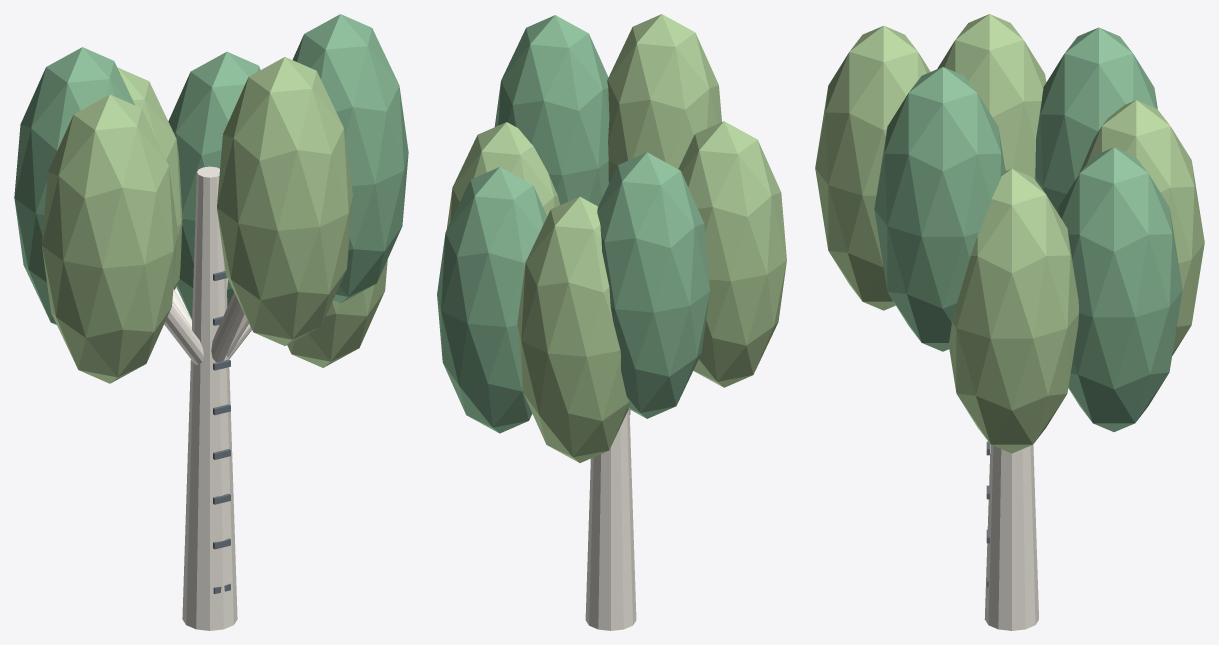
Rendered from birch.glb.
3 renders of one model, left to right at view 1: azimuth 30°, elevation 25°; view 2: azimuth 150°, elevation 25°; view 3: azimuth 270°, elevation 25°, orthographic. The views are drawn at different scales.
Parts seen in each view (by area): view 1: birch_006, birch_010, birch_000, birch_012, birch_004, birch_008, birch_002, birch_014, birch_005, birch_009; view 2: birch_004, birch_014, birch_008, birch_010, birch_012, birch_006, birch_000, birch_002; view 3: birch_002, birch_008, birch_012, birch_006, birch_004, birch_010, birch_000, birch_014.
Part boxes in pixels (<box>): birch_006: <box>217,57,352,345</box>; birch_010: <box>42,94,177,383</box>; birch_000: <box>182,166,237,630</box>; birch_012: <box>292,14,408,303</box>; birch_004: <box>14,47,135,324</box>; birch_008: <box>168,51,260,319</box>; birch_002: <box>287,260,387,367</box>; birch_014: <box>117,67,182,289</box>; birch_005: <box>211,292,244,362</box>; birch_009: <box>164,305,203,364</box>; birch_004: <box>597,152,709,418</box>; birch_014: <box>517,196,629,462</box>; birch_008: <box>437,167,547,433</box>; birch_010: <box>678,121,786,387</box>; birch_012: <box>494,15,609,206</box>; birch_006: <box>607,14,721,183</box>; birch_000: <box>585,409,636,630</box>; birch_002: <box>446,122,559,229</box>; birch_002: <box>948,168,1078,453</box>; birch_008: <box>1057,147,1182,431</box>; birch_012: <box>874,67,1005,351</box>; birch_006: <box>815,25,930,310</box>; birch_004: <box>1035,27,1157,212</box>; birch_010: <box>937,14,1046,180</box>; birch_000: <box>984,444,1038,630</box>; birch_014: <box>1079,100,1204,355</box>.
Size of the model in its own units: 2.7 by 4.62 by 2.73.
